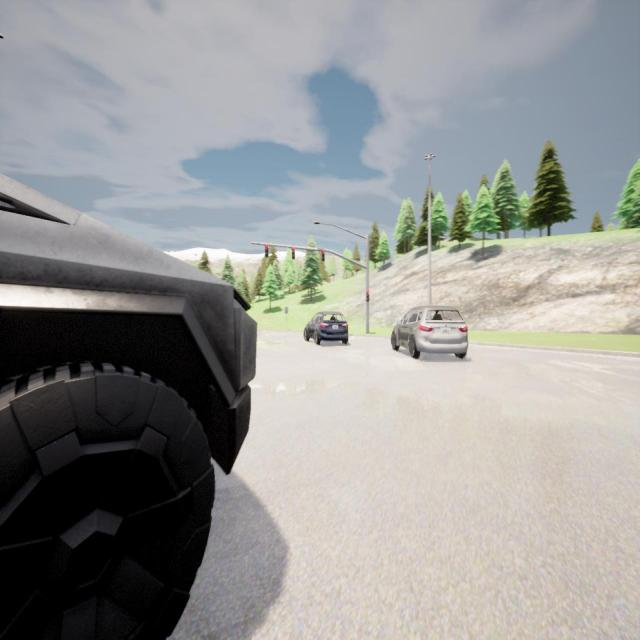Traffic_Signs: (284, 306, 288, 314)
Vehicle: (2, 207, 257, 640), (391, 307, 468, 358), (304, 311, 349, 345)
traffic_light: (265, 245, 268, 257), (292, 248, 295, 260), (366, 291, 369, 302), (322, 250, 324, 262)
